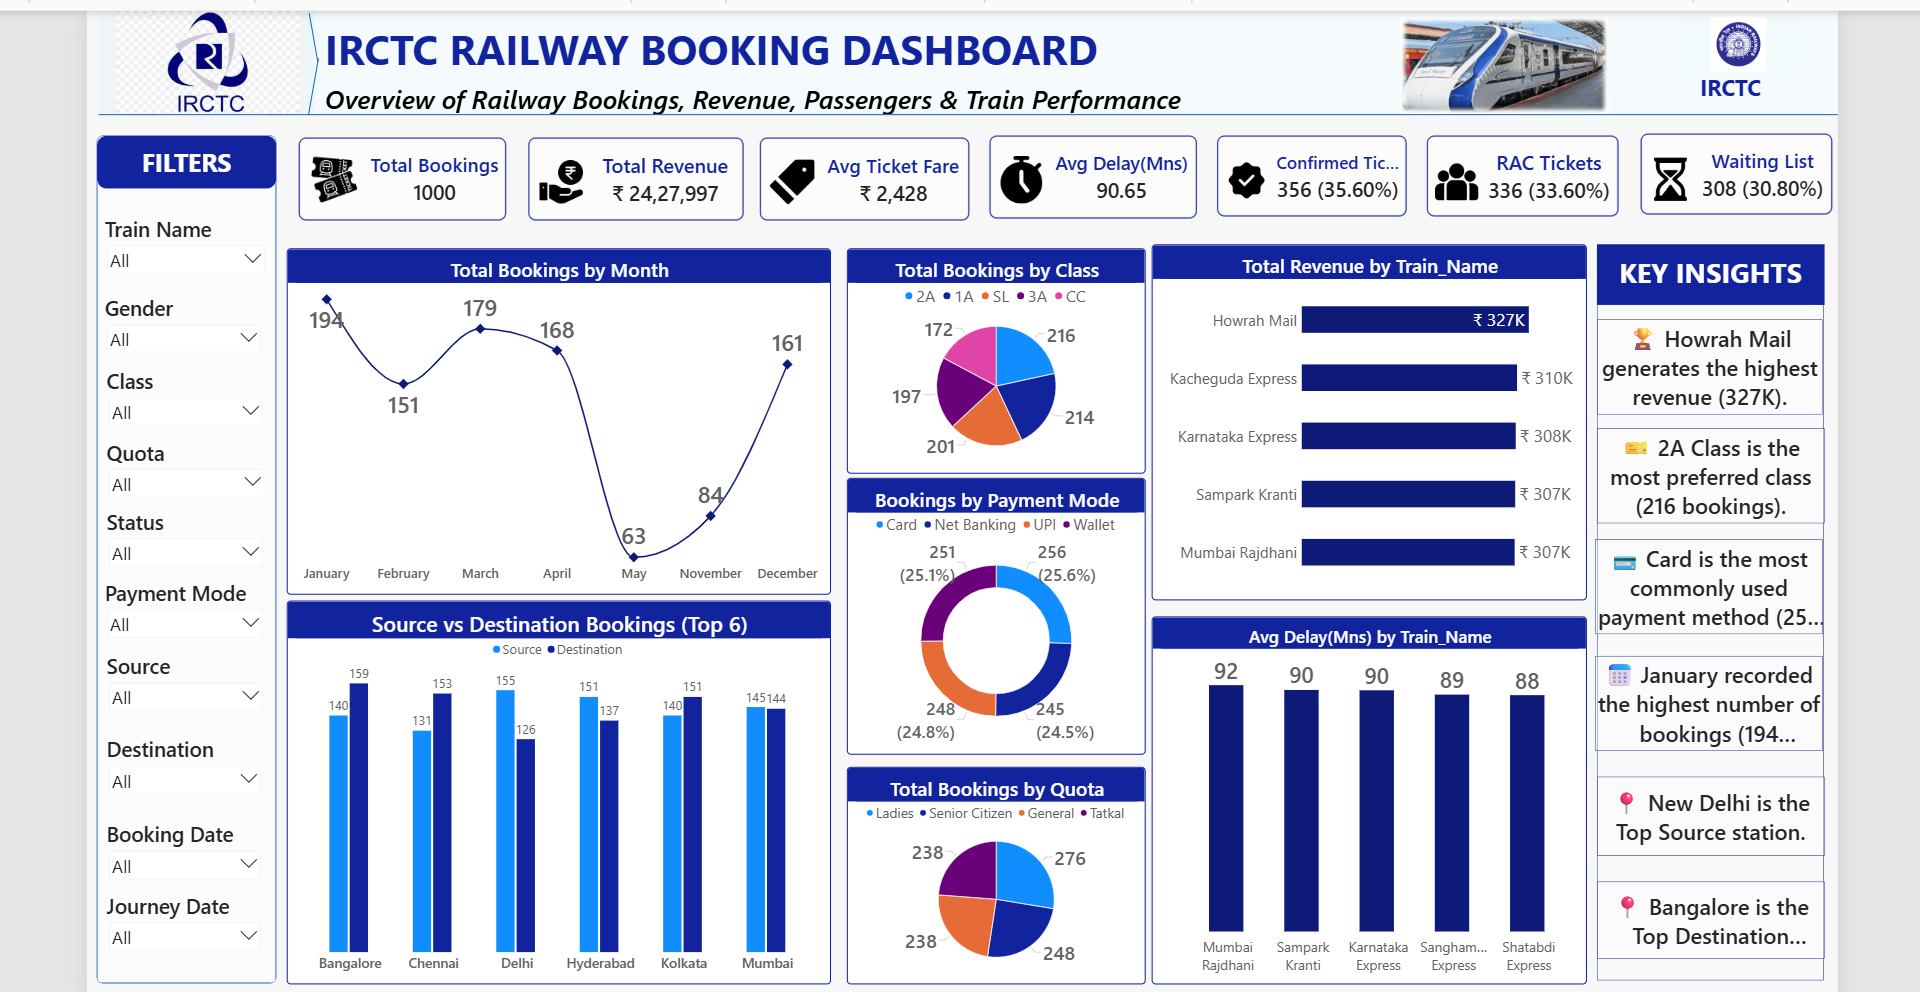

Layout of this report page (visuals, bound fields, positions):
{"tool":"powerbi","page":{"name":"Main2 ","canvas":[3406,1935],"ordinal":1},"visuals":[{"type":"image","box":[23.1,0,423.6,200.2],"z":0,"group":"g1"},{"type":"group","id":"g1","title":"Group 1","box":[23.1,0,3384.4,234.8],"z":0},{"type":"shape","box":[346.8,3,188.7,95.9],"z":0,"group":"g2"},{"type":"shape","box":[20.2,244.5,349.4,1649.5],"z":0,"group":"g3"},{"type":"shape","box":[2937.2,458.4,441,1427.8],"z":0,"group":"g4"},{"type":"textbox","title":"IRCTC RAILWAY BOOKING DASHBOARD","box":[440.9,0,2966,202.1],"z":1000,"group":"g1"},{"type":"shape","box":[346.5,92.9,188.7,110.6],"z":1000,"group":"g2"},{"type":"textbox","box":[18.3,244.4,350.3,103.9],"z":1000,"group":"g3"},{"type":"cardVisual","fields":{"Data":["Table1.Total Bookings"]},"box":[411.9,246.4,404.2,161.7],"z":1000},{"type":"shape","box":[2938.6,1488.8,442.7,154],"z":1000,"group":"g4"},{"type":"image","box":[2533.9,11.9,448.3,190.2],"z":2000,"group":"g1"},{"type":"cardVisual","fields":{"Data":["Table1.Total Revenue"]},"box":[858.4,246.4,419.6,161.7],"z":2000},{"type":"textbox","box":[2938.7,454.2,442.5,117.7],"z":2000,"group":"g4"},{"type":"image","box":[3090,11.9,242.7,107],"z":3000,"group":"g1"},{"type":"cardVisual","fields":{"Data":["Table1.Average Ticket Fare"]},"box":[1308.8,246.4,408.1,161.7],"z":3000},{"type":"shape","box":[2936.4,1254,442.7,184.8],"z":3000,"group":"g4"},{"type":"textbox","box":[3090,118.9,242.7,83.2],"z":4000,"group":"g1"},{"type":"cardVisual","fields":{"Data":["Table1.Average Delay(Mins)"]},"box":[1755.4,242.5,404.2,161.7],"z":4000},{"type":"shape","box":[2939.3,599.5,438.8,184.8],"z":4000,"group":"g4"},{"type":"shape","box":[23.8,169.4,3383.8,65.4],"z":5000,"group":"g1"},{"type":"cardVisual","fields":{"Data":["Table1.Confirmed Tickets"]},"box":[2198.1,242.5,369.6,157.8],"z":5000},{"type":"group","id":"g2","title":"Group 3","box":[346.5,3,188.7,199.2],"z":6000,"group":"g1"},{"type":"cardVisual","fields":{"Data":["Table1.RAC Tickets"]},"box":[2606.1,242.5,373.4,157.8],"z":6000},{"type":"shape","box":[2939.3,811.3,442.7,184.8],"z":6000,"group":"g4"},{"type":"cardVisual","fields":{"Data":["Table1.Waiting List"]},"box":[3021.9,238.7,373.4,157.8],"z":7000},{"type":"shape","box":[2934.8,1026.8,442.7,184.8],"z":7000,"group":"g4"},{"type":"group","id":"g3","title":"Group 2","box":[18.3,244.4,351.3,1649.6],"z":8000},{"type":"shape","box":[2939.3,1692.8,442.7,150.1],"z":8000,"group":"g4"},{"type":"slicer","title":"  Train Name","fields":{"Values":["Table1.Train_Name"]},"box":[34.6,396.5,315.7,127],"z":9000},{"type":"slicer","title":"Class","fields":{"Values":["Table1.Class"]},"box":[38.5,692.9,308,127],"z":10000},{"type":"slicer","title":"Status","fields":{"Values":["Table1.Status"]},"box":[38.5,966.2,308,138.6],"z":11000},{"type":"slicer","title":"Quota","fields":{"Values":["Table1.Quota"]},"box":[38.5,831.5,311.8,134.7],"z":12000},{"type":"slicer","title":"Destination","fields":{"Values":["Table1.Destination"]},"box":[38.5,1408.9,304.1,134.7],"z":13000},{"type":"slicer","title":"Gender","fields":{"Values":["Table1.Gender"]},"box":[34.6,550.5,308,111.6],"z":14000},{"type":"slicer","title":"Payment Mode","fields":{"Values":["Table1.Payment_Mode"]},"box":[34.6,1104.8,311.8,142.4],"z":15000},{"type":"slicer","title":"Source","fields":{"Values":["Table1.Source"]},"box":[38.5,1247.3,308,130.9],"z":16000},{"type":"slicer","title":"Booking Date","fields":{"Values":["Table1.Booking_Date"]},"box":[38.5,1574.5,304.1,138.6],"z":17000},{"type":"slicer","title":"Journey Date","fields":{"Values":["Table1.Journey_Date"]},"box":[38.5,1713,304.1,138.6],"z":18000},{"type":"clusteredColumnChart","title":"Source vs Destination Bookings (Top 6)","fields":{"Category":["Bookings-SD.Value"],"Series":["Bookings-SD.Attribute"],"Y":["CountNonNull(Bookings-SD.Station Bookings)"]},"box":[388.8,1147.2,1058.6,746.8],"z":19000},{"type":"lineChart","fields":{"Category":["Table1.Booking_Date.Variation.Date Hierarchy.Month","Table1.Booking_Date.Variation.Date Hierarchy.Day"],"Y":["Table1.Total Bookings"]},"box":[388.8,461.9,1058.6,673.7],"z":20000},{"type":"pieChart","fields":{"Category":["Table1.Class"],"Y":["Table1.Total Bookings"]},"box":[1478.2,461.9,581.3,438.8],"z":21000},{"type":"donutChart","title":"Bookings by Payment Mode","fields":{"Series":["Table1.Payment_Mode"],"Y":["Table1.Total Bookings"]},"box":[1478.2,908.5,581.3,538.9],"z":22000},{"type":"group","id":"g4","title":"Group 1","box":[2934.8,454.2,447.2,1432],"z":23000},{"type":"clusteredBarChart","fields":{"Category":["Table1.Train_Name"],"Y":["Table1.Total Revenue"]},"box":[2071.1,454.2,846.9,692.9],"z":24000},{"type":"clusteredColumnChart","fields":{"Category":["Table1.Train_Name"],"Y":["Table1.Avg Delay(Mns)"]},"box":[2071.1,1178,846.9,716],"z":25000},{"type":"pieChart","fields":{"Category":["Table1.Quota"],"Y":["Table1.Total Bookings"]},"box":[1478.2,1470.5,581.3,423.5],"z":25001}]}

Visuals, with their boxes on the page's 3406x1935 design canvas (x1, y1, x2, y2). These are canvas units, not pixel positions in the 1920x992 screenshot, which may show the page scaled, cropped or inside an application window:
image: <region>23, 0, 447, 200</region>
"Group 1" group: <region>23, 0, 3408, 235</region>
shape: <region>347, 3, 536, 99</region>
shape: <region>20, 244, 370, 1894</region>
shape: <region>2937, 458, 3378, 1886</region>
"IRCTC RAILWAY BOOKING DASHBOARD" textbox: <region>441, 0, 3407, 202</region>
shape: <region>346, 93, 535, 204</region>
textbox: <region>18, 244, 369, 348</region>
cardVisual - Table1.Total Bookings: <region>412, 246, 816, 408</region>
shape: <region>2939, 1489, 3381, 1643</region>
image: <region>2534, 12, 2982, 202</region>
cardVisual - Table1.Total Revenue: <region>858, 246, 1278, 408</region>
textbox: <region>2939, 454, 3381, 572</region>
image: <region>3090, 12, 3333, 119</region>
cardVisual - Table1.Average Ticket Fare: <region>1309, 246, 1717, 408</region>
shape: <region>2936, 1254, 3379, 1439</region>
textbox: <region>3090, 119, 3333, 202</region>
cardVisual - Table1.Average Delay(Mins): <region>1755, 242, 2160, 404</region>
shape: <region>2939, 600, 3378, 784</region>
shape: <region>24, 169, 3408, 235</region>
cardVisual - Table1.Confirmed Tickets: <region>2198, 242, 2568, 400</region>
"Group 3" group: <region>346, 3, 535, 202</region>
cardVisual - Table1.RAC Tickets: <region>2606, 242, 2980, 400</region>
shape: <region>2939, 811, 3382, 996</region>
cardVisual - Table1.Waiting List: <region>3022, 239, 3395, 396</region>
shape: <region>2935, 1027, 3378, 1212</region>
"Group 2" group: <region>18, 244, 370, 1894</region>
shape: <region>2939, 1693, 3382, 1843</region>
"  Train Name" slicer: <region>35, 396, 350, 524</region>
"Class" slicer: <region>38, 693, 346, 820</region>
"Status" slicer: <region>38, 966, 346, 1105</region>
"Quota" slicer: <region>38, 832, 350, 966</region>
"Destination" slicer: <region>38, 1409, 343, 1544</region>
"Gender" slicer: <region>35, 550, 343, 662</region>
"Payment Mode" slicer: <region>35, 1105, 346, 1247</region>
"Source" slicer: <region>38, 1247, 346, 1378</region>
"Booking Date" slicer: <region>38, 1574, 343, 1713</region>
"Journey Date" slicer: <region>38, 1713, 343, 1852</region>
"Source vs Destination Bookings (Top 6)" clusteredColumnChart: <region>389, 1147, 1447, 1894</region>
lineChart - Table1.Booking_Date.Variation.Date Hierarchy.Month x Table1.Booking_Date.Variation.Date Hierarchy.Day: <region>389, 462, 1447, 1136</region>
pieChart - Table1.Class x Table1.Total Bookings: <region>1478, 462, 2060, 901</region>
"Bookings by Payment Mode" donutChart: <region>1478, 908, 2060, 1447</region>
"Group 1" group: <region>2935, 454, 3382, 1886</region>
clusteredBarChart - Table1.Train_Name x Table1.Total Revenue: <region>2071, 454, 2918, 1147</region>
clusteredColumnChart - Table1.Train_Name x Table1.Avg Delay(Mns): <region>2071, 1178, 2918, 1894</region>
pieChart - Table1.Quota x Table1.Total Bookings: <region>1478, 1470, 2060, 1894</region>
